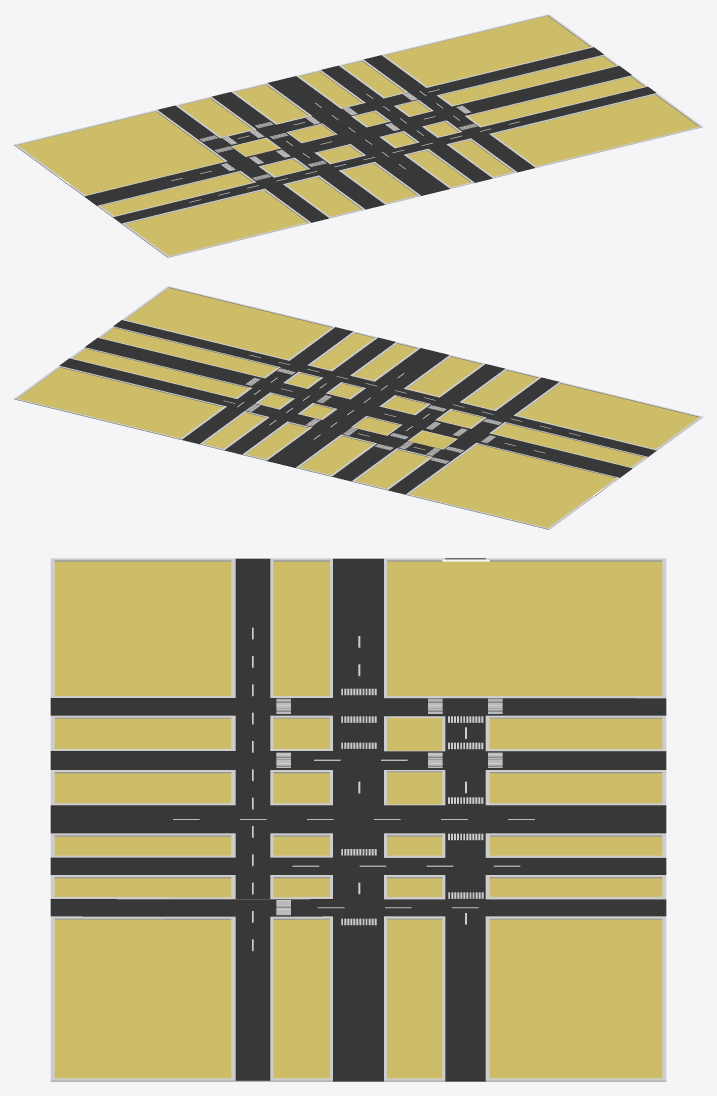
Rendered from new city.fbx.
The picture shows the model from 3 angles, top to bottom: view 1: azimuth 30°, elevation 25°; view 2: azimuth 150°, elevation 25°; view 3: azimuth 270°, elevation 25°; orthographic projection. The views are drawn at different scales.
Visible parts, largest first — view 1: Plane.001; view 2: Plane.001; view 3: Plane.001.
Part boxes in pixels (bbox=[...]): Plane.001: bbox=[14, 14, 702, 257]; Plane.001: bbox=[14, 286, 702, 529]; Plane.001: bbox=[50, 558, 666, 1081].
Size of the model in its own units: 9216 by 15.67 by 4592.
